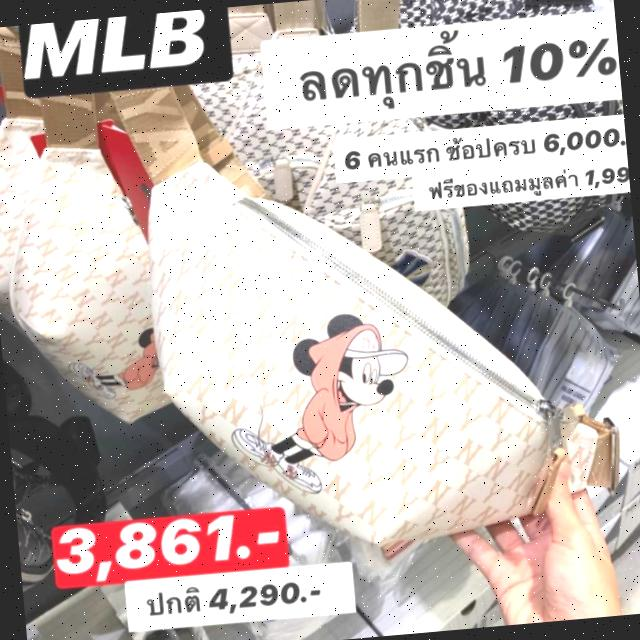Handbag: (118, 46, 622, 582)
